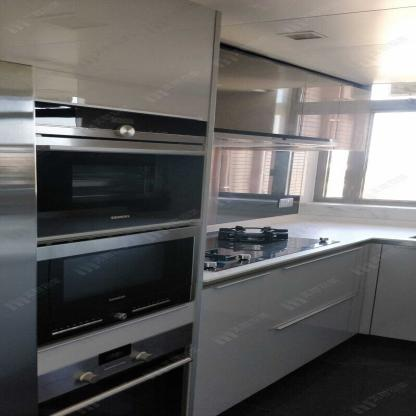Cupboard: (196, 243, 415, 416)
Exhaust Hood: (208, 124, 335, 148)
Oven: (31, 101, 199, 414)
Stove: (206, 222, 346, 272)
